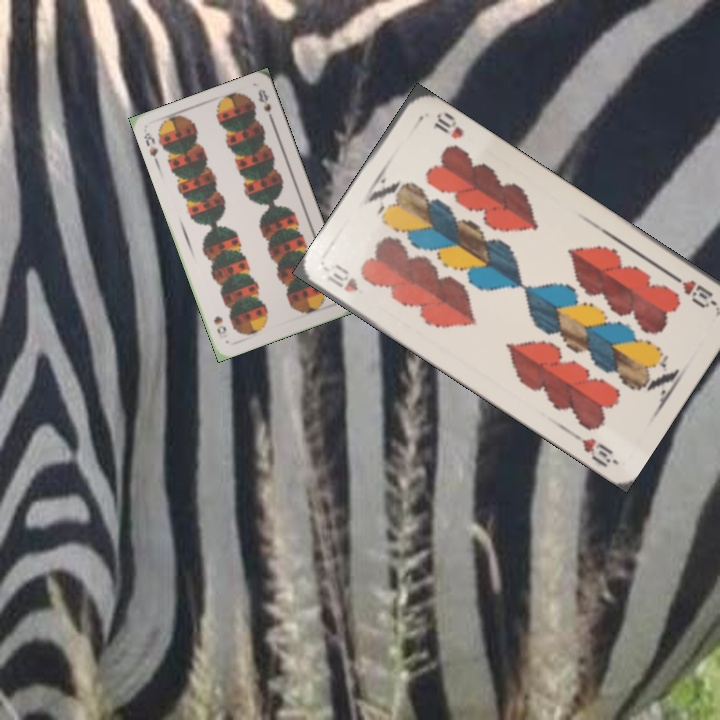H10: (667, 270, 719, 311), (323, 261, 362, 295)
S8: (140, 128, 161, 167)
